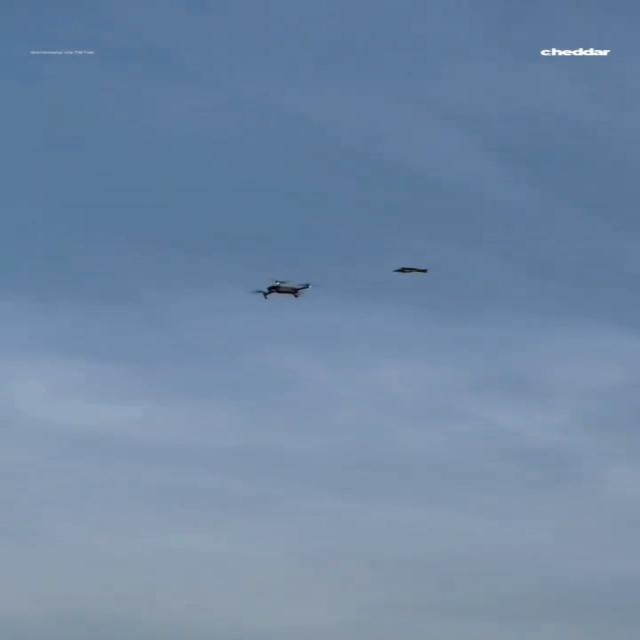bird: (391, 266, 428, 274)
drone: (252, 279, 312, 299)
